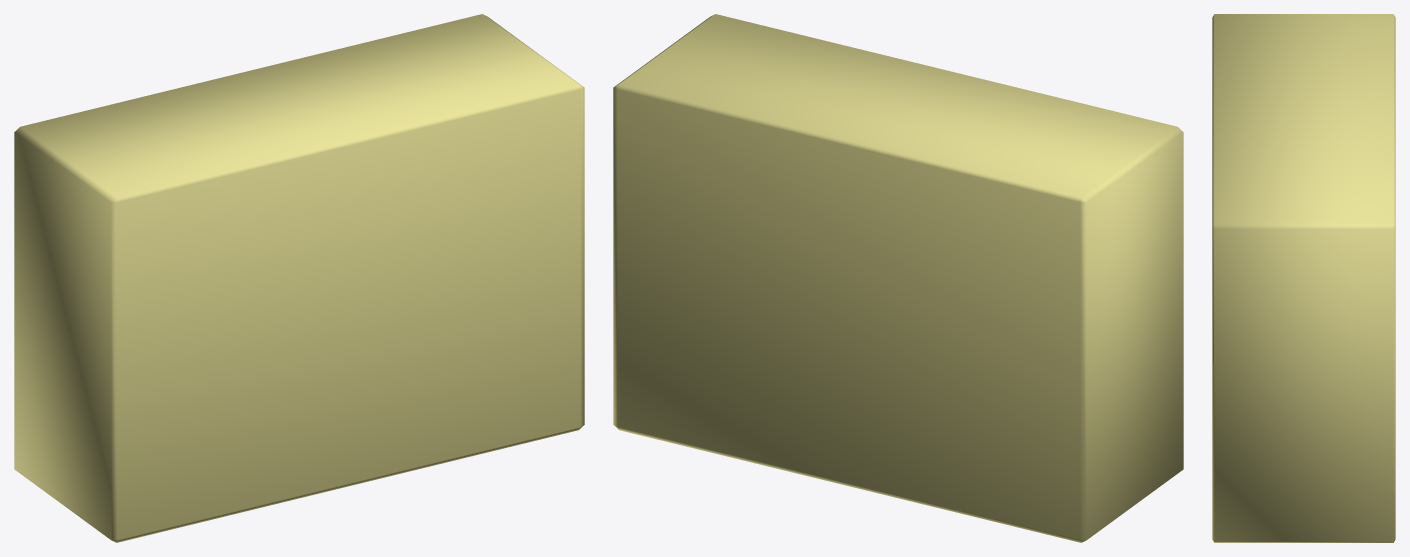
The model's file is SaponettaLavanda.fbx.
The picture shows the model from 3 angles, left to right: view 1: azimuth 30°, elevation 25°; view 2: azimuth 150°, elevation 25°; view 3: azimuth 270°, elevation 25°; orthographic projection. The views are drawn at different scales.
Parts seen in each view (by area): view 1: Saponetta; view 2: Saponetta; view 3: Saponetta.
Boxes of the visible parts, x1,y1,x2,y2 form: Saponetta: [14, 14, 584, 542]; Saponetta: [613, 14, 1183, 542]; Saponetta: [1212, 14, 1395, 542].
Size of the model in its own units: 468 by 326 by 169.
